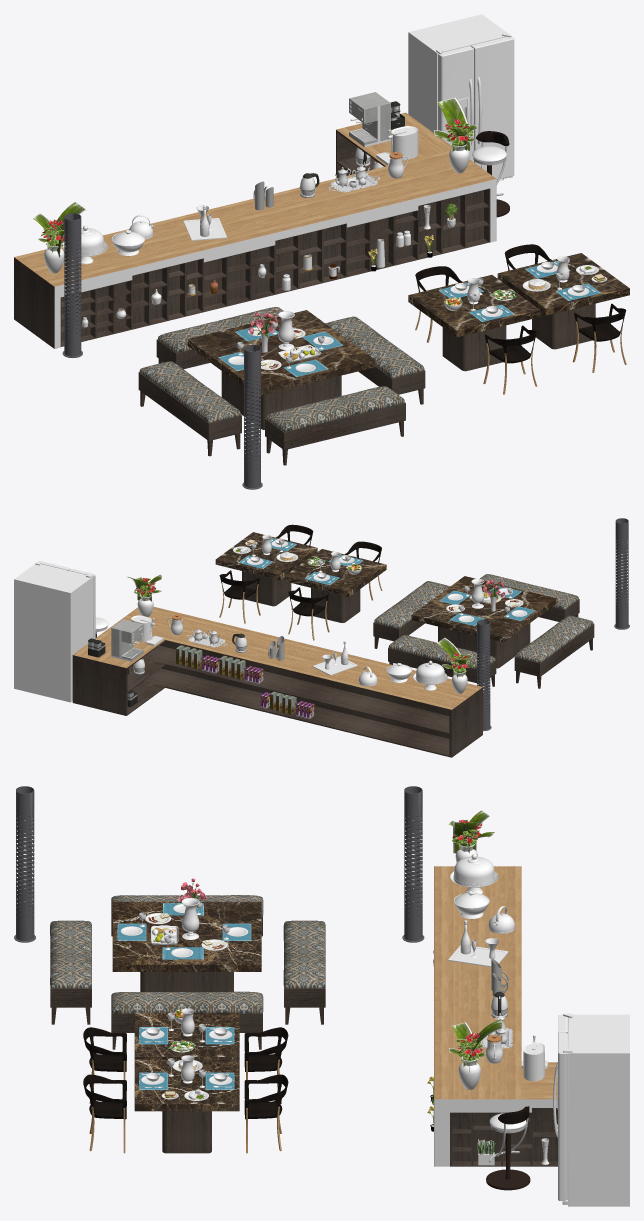
File: Cafe-v1.glb
3 views of the same model, one above another, from view 1: azimuth 30°, elevation 25°; view 2: azimuth 150°, elevation 25°; view 3: azimuth 270°, elevation 25° (orthographic). The views are drawn at different scales.
Parts seen in each view (by area): view 1: Object_140, Object_0, Object_132, Object_53, Object_54, Object_137, Object_153, Object_161, Object_107, Object_56, Object_163; view 2: Object_140, Object_0, Object_132, Object_53, Object_54, Object_137, Object_153, Object_161, Object_107, Object_64, Object_56, Object_73 (+3 smaller); view 3: Object_0, Object_132, Object_53, Object_140, Object_54, Object_137, Object_153, Object_107, Object_56, Object_142.
Boxes of the visible parts, <box> form: Object_140: <box>14,130,595,465</box>; Object_0: <box>44,14,607,372</box>; Object_132: <box>14,112,626,394</box>; Object_53: <box>187,253,629,394</box>; Object_54: <box>139,307,424,431</box>; Object_137: <box>62,213,262,489</box>; Object_153: <box>415,131,626,363</box>; Object_161: <box>253,92,390,210</box>; Object_107: <box>218,261,600,376</box>; Object_56: <box>33,97,476,257</box>; Object_163: <box>328,164,379,192</box>; Object_140: <box>72,571,594,757</box>; Object_0: <box>14,535,527,702</box>; Object_132: <box>73,544,482,709</box>; Object_53: <box>215,532,556,642</box>; Object_54: <box>374,574,593,669</box>; Object_137: <box>477,518,629,731</box>; Object_153: <box>219,524,381,616</box>; Object_161: <box>111,619,284,661</box>; Object_107: <box>238,538,535,626</box>; Object_64: <box>202,655,314,719</box>; Object_56: <box>126,574,474,678</box>; Object_73: <box>179,646,296,714</box>; Object_0: <box>120,844,629,1206</box>; Object_132: <box>89,866,557,1153</box>; Object_53: <box>112,901,261,1111</box>; Object_140: <box>50,916,557,1166</box>; Object_54: <box>50,895,325,1013</box>; Object_137: <box>14,786,424,942</box>; Object_153: <box>83,1027,529,1124</box>; Object_107: <box>117,903,251,1089</box>; Object_56: <box>448,810,502,1072</box>; Object_142: <box>486,1133,530,1190</box>.
Size of the model in its own units: 11.38 by 3 by 10.81.
98 materials, 96 textured.
